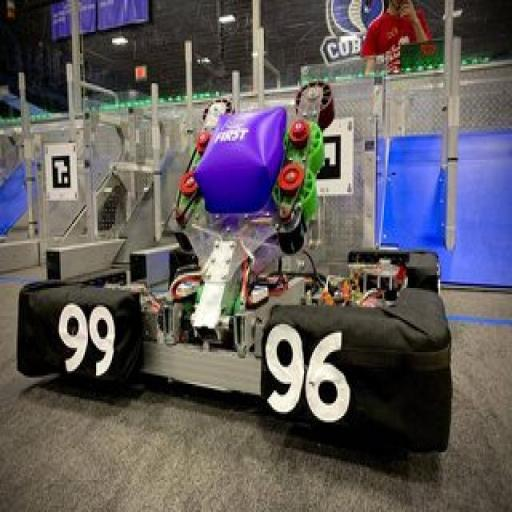robot: (0, 5, 458, 512)
